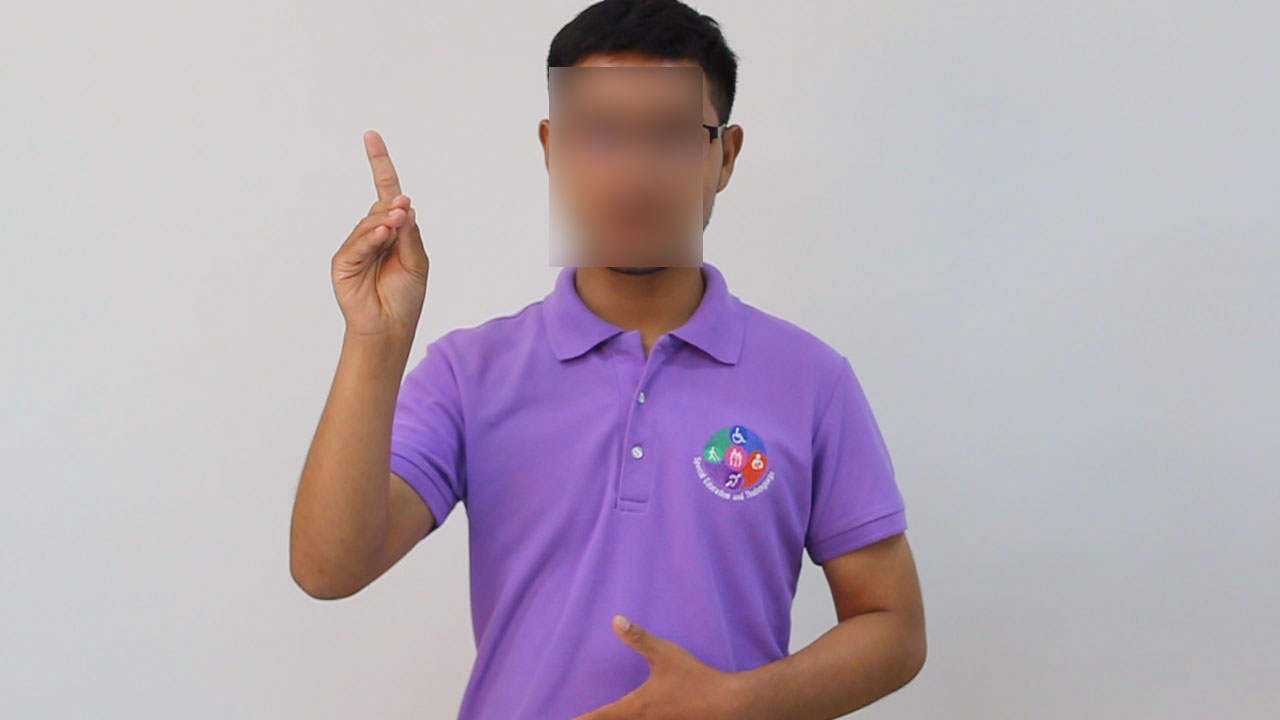dor: (321, 125, 438, 361)
